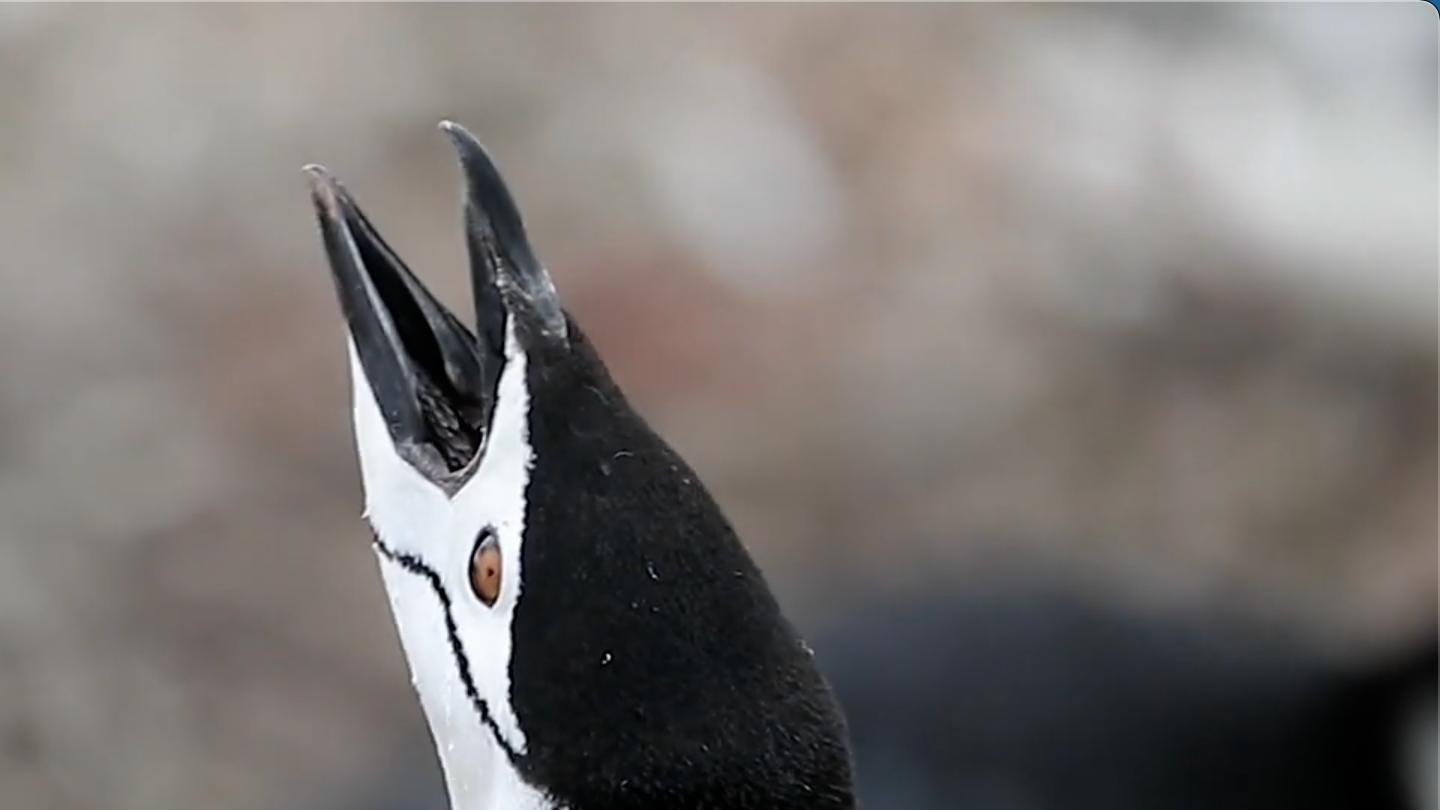Chinstrap Penguin: (211, 85, 978, 810)
